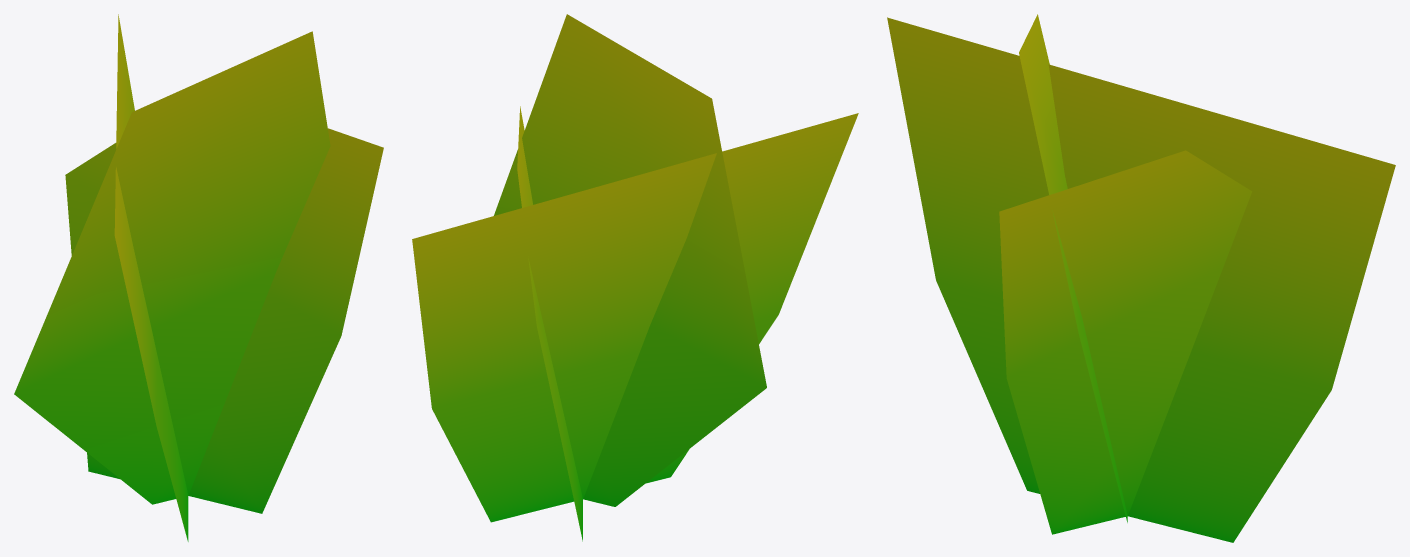
Rendered from Seaweed_LOD1_Var4_sdokF.fbx.
The picture shows the model from 3 angles, left to right: view 1: azimuth 30°, elevation 25°; view 2: azimuth 150°, elevation 25°; view 3: azimuth 270°, elevation 25°; orthographic projection. The views are drawn at different scales.
Visible parts, largest first — view 1: merge1; view 2: merge1; view 3: merge1.
Boxes of the visible parts, x1,y1,x2,y2 form: merge1: [14, 14, 383, 541]; merge1: [412, 14, 858, 541]; merge1: [887, 14, 1395, 542].
Bounding box in the file's own units: 20.93 × 30.07 × 27.73.
